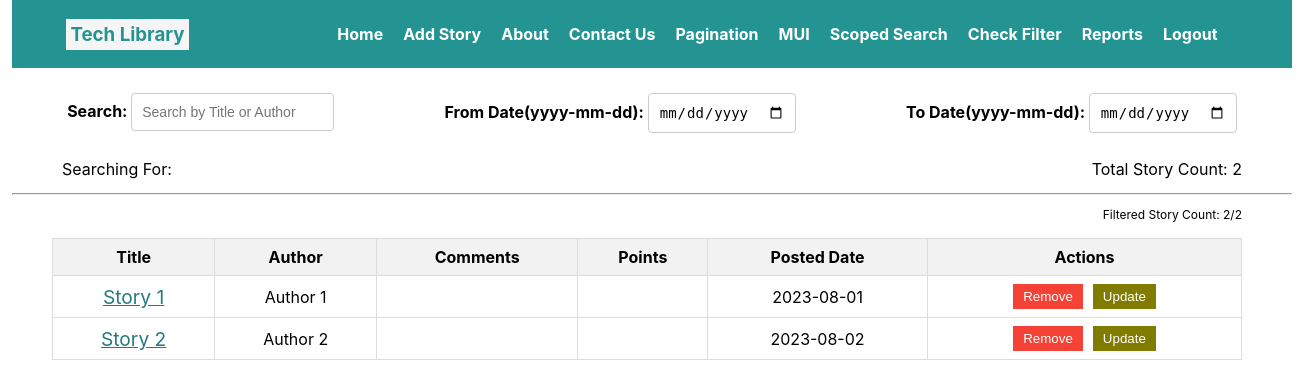
StoriesList › removes a story
expect the link "Story 1" is shown: met, box [103,285,164,309]
expect the link "Story 2" is shown: met, box [101,327,166,351]
Click the button "Remove" in the row of "Story 1": (1048, 297) [1013,284,1083,309]
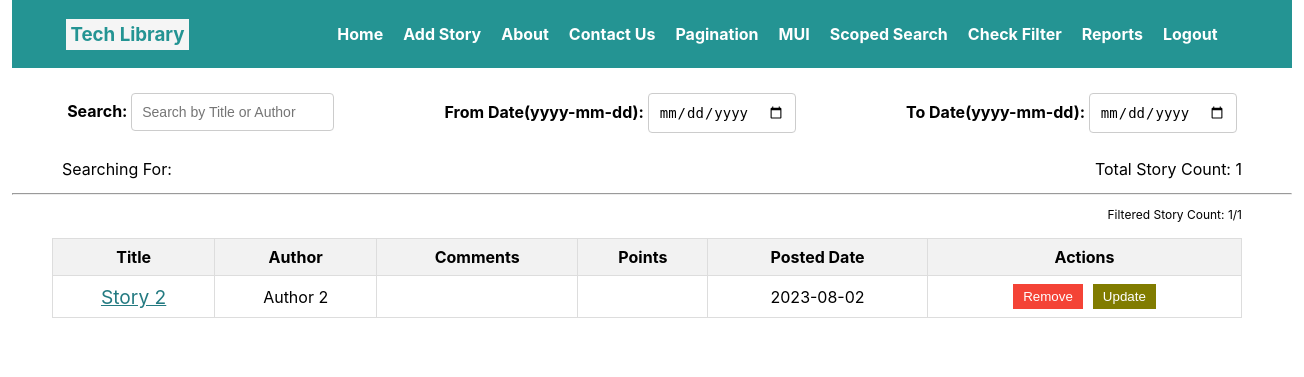
expect the link "Story 2" is shown: met, box [101,285,166,309]
expect the link "Story 1" is gone: met
